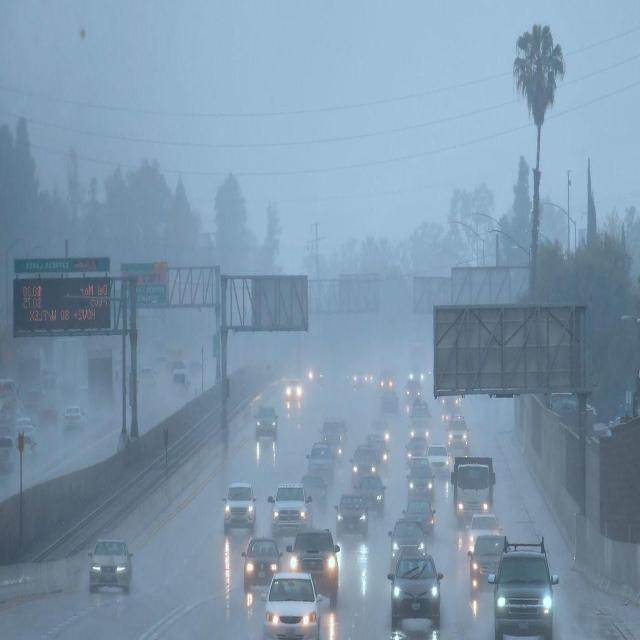Car: (489, 543, 560, 640), (260, 568, 324, 640), (386, 551, 444, 629), (286, 527, 342, 607), (86, 538, 132, 595), (468, 531, 508, 596), (269, 480, 312, 539), (242, 534, 284, 592), (388, 516, 428, 572), (222, 480, 258, 534), (334, 491, 372, 540), (464, 512, 502, 554), (402, 497, 436, 541), (354, 473, 387, 516), (306, 443, 336, 486), (350, 444, 379, 484), (300, 473, 328, 513), (405, 468, 436, 503), (321, 418, 348, 456), (426, 443, 451, 477), (405, 436, 430, 469), (365, 432, 390, 465), (254, 404, 278, 438), (407, 456, 432, 482), (62, 405, 86, 432), (369, 418, 392, 446), (15, 433, 37, 461), (380, 388, 400, 416), (0, 434, 14, 474), (14, 416, 36, 441), (409, 421, 431, 442), (403, 378, 422, 402), (285, 379, 304, 402), (378, 370, 396, 390), (138, 367, 156, 386), (351, 368, 368, 386)
Truck: (450, 455, 496, 529), (86, 346, 121, 418), (410, 399, 432, 422)
